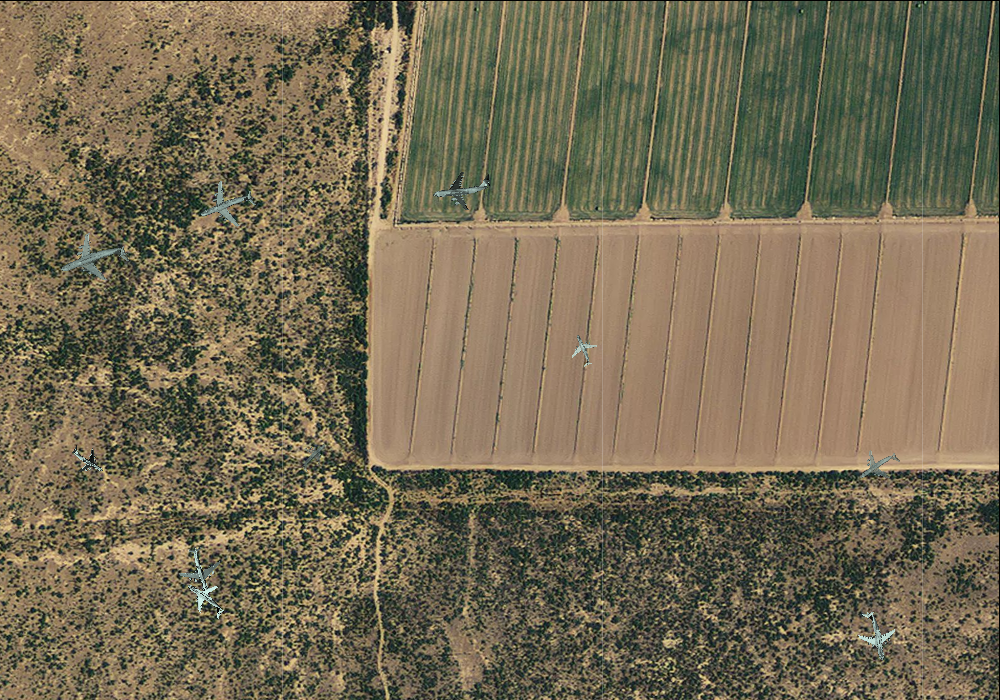plane: (50, 219, 136, 301), (190, 170, 263, 241), (429, 160, 494, 215), (175, 571, 234, 628), (850, 438, 908, 495), (172, 541, 228, 599), (848, 607, 902, 665), (63, 436, 111, 483), (292, 435, 335, 478), (562, 329, 604, 371)
